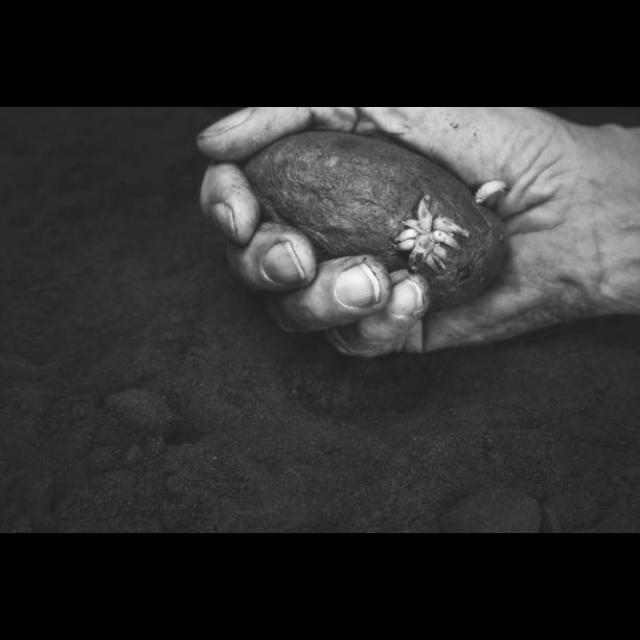Sprouted potato: (246, 134, 518, 320)
